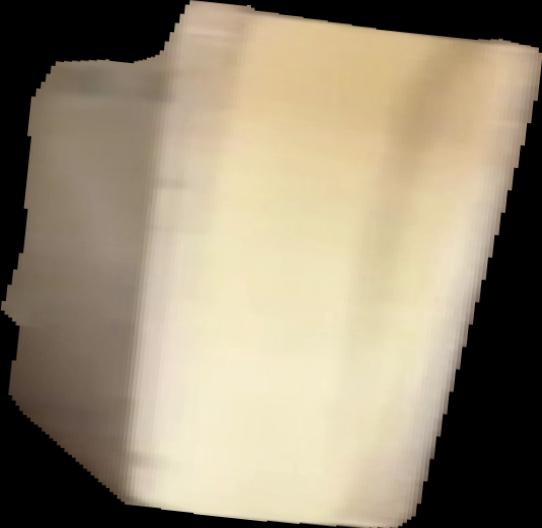backward: (1, 1, 542, 528)
